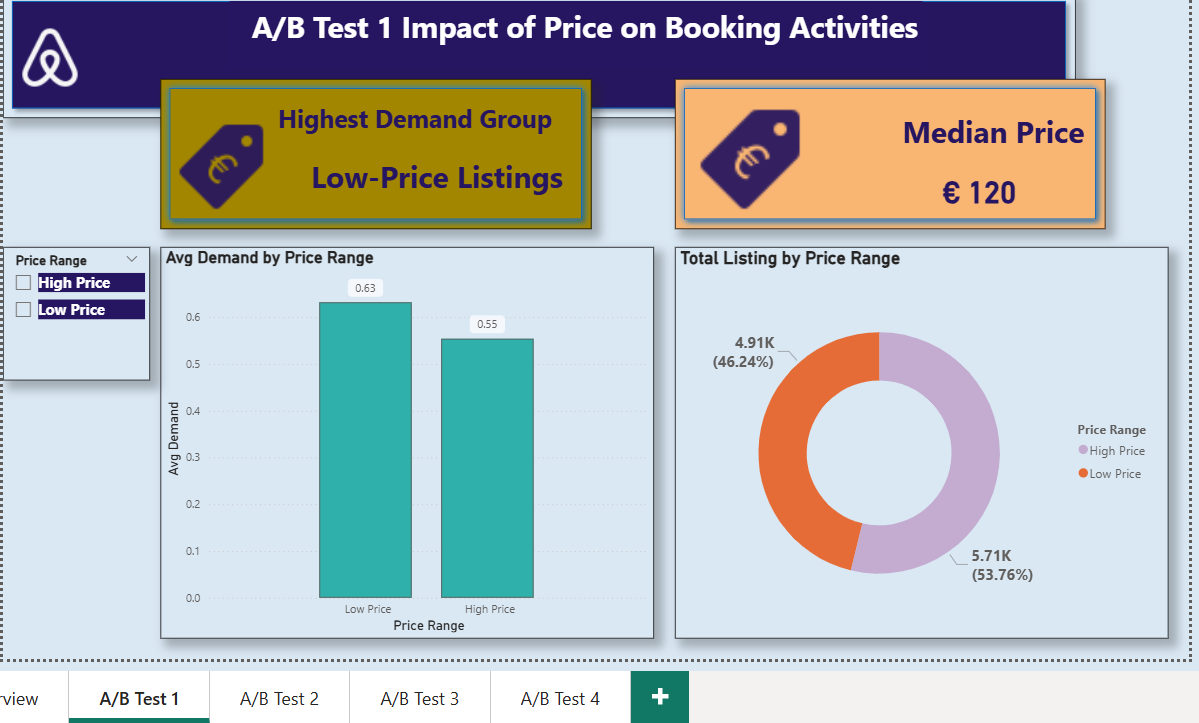

The dashboard page shown, as its layout file describes it:
{"tool":"powerbi","page":{"name":"A/B Test 1 ","canvas":[1280,720],"ordinal":1},"visuals":[{"type":"shape","box":[0,0,1157.7,136],"z":0},{"type":"shape","box":[170,93.9,465.3,161.9],"z":0,"group":"g1"},{"type":"card","fields":{"Values":["cleaned_listing.Most Sensitive Price Group"]},"box":[315.3,163.5,304.4,71.2],"z":1000,"group":"g1"},{"type":"shape","box":[725.4,93.9,464.7,161.9],"z":1000},{"type":"textbox","box":[289.4,113.3,307.9,59.9],"z":2000,"group":"g1"},{"type":"card","fields":{"Values":["cleaned_listing.Median Price"]},"box":[935.9,191.1,236.4,45.3],"z":2000},{"type":"textbox","box":[869.5,123.1,302.8,68],"z":3000},{"type":"donutChart","title":"Total Listing by Price Range","fields":{"Category":["cleaned_listing.Price Range"],"Y":["CountNonNull(cleaned_listing.id)"]},"box":[725.4,275.3,532.7,422.6],"z":4000},{"type":"group","id":"g1","title":"Group 1","box":[170,93.9,464.7,161.9],"z":5000},{"type":"lineClusteredColumnComboChart","fields":{"Category":["cleaned_listing.Price Range"],"Y":["cleaned_listing.Avg Demand"]},"box":[170,275.3,532.7,422.6],"z":6000},{"type":"image","box":[10,10,81.4,122],"z":7000},{"type":"textbox","box":[244.5,9.7,748.1,72.9],"z":8000},{"type":"slicer","fields":{"Values":["cleaned_listing.Price Range"]},"box":[0,275.3,158.7,144.1],"z":9000},{"type":"image","box":[743.2,105.2,126.3,150.6],"z":10000},{"type":"image","box":[181.4,113.3,108.5,150.6],"z":11000}]}

Visuals, with their boxes in screenshot pixels (x1, y1, x2, y2):
shape: left=0, top=12, right=1069, bottom=138
shape: left=157, top=99, right=587, bottom=249
card - cleaned_listing.Most Sensitive Price Group: left=291, top=163, right=572, bottom=229
shape: left=670, top=99, right=1099, bottom=249
textbox: left=267, top=117, right=552, bottom=172
card - cleaned_listing.Median Price: left=864, top=189, right=1083, bottom=231
textbox: left=803, top=126, right=1083, bottom=189
"Total Listing by Price Range" donutChart: left=670, top=267, right=1162, bottom=657
"Group 1" group: left=157, top=99, right=586, bottom=249
lineClusteredColumnComboChart - cleaned_listing.Price Range x cleaned_listing.Avg Demand: left=157, top=267, right=649, bottom=657
image: left=9, top=22, right=84, bottom=134
textbox: left=226, top=21, right=917, bottom=89
slicer - cleaned_listing.Price Range: left=0, top=267, right=147, bottom=400
image: left=686, top=110, right=803, bottom=249
image: left=168, top=117, right=268, bottom=256
